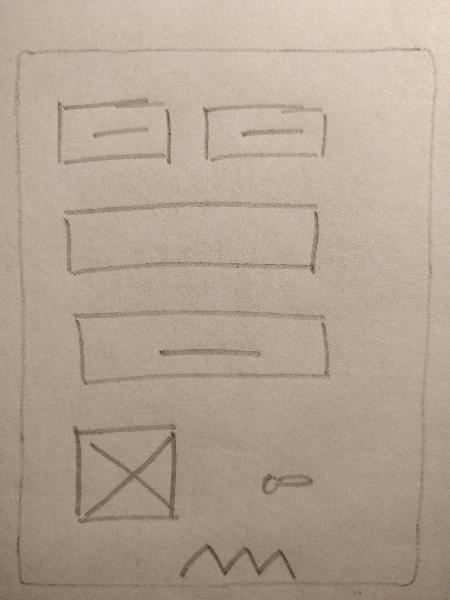button: (60, 303, 347, 391), (195, 95, 337, 168), (48, 94, 180, 169)
image: (64, 414, 196, 530)
switch: (249, 462, 322, 500)
text: (173, 537, 301, 581)
text_input: (45, 194, 341, 284)
